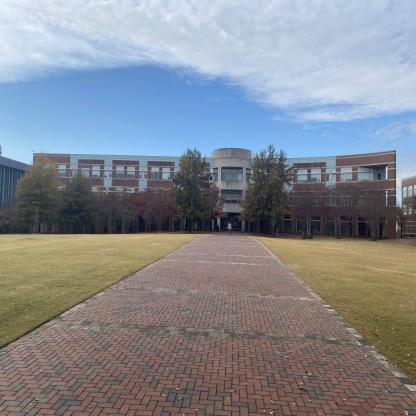EB-1: (23, 131, 408, 261)
